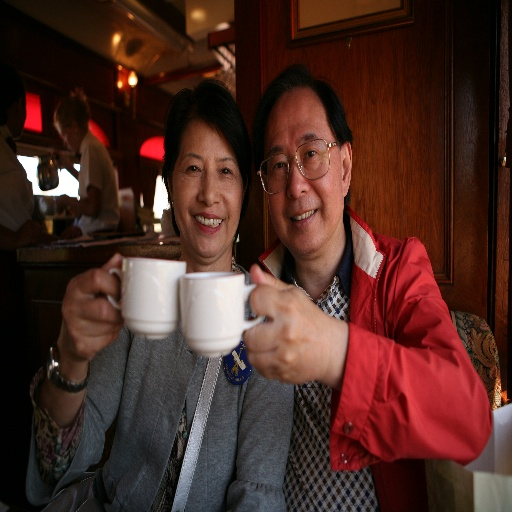hand: (240, 263, 333, 388), (47, 263, 124, 391), (16, 218, 47, 247), (55, 191, 75, 209), (51, 151, 68, 171)
